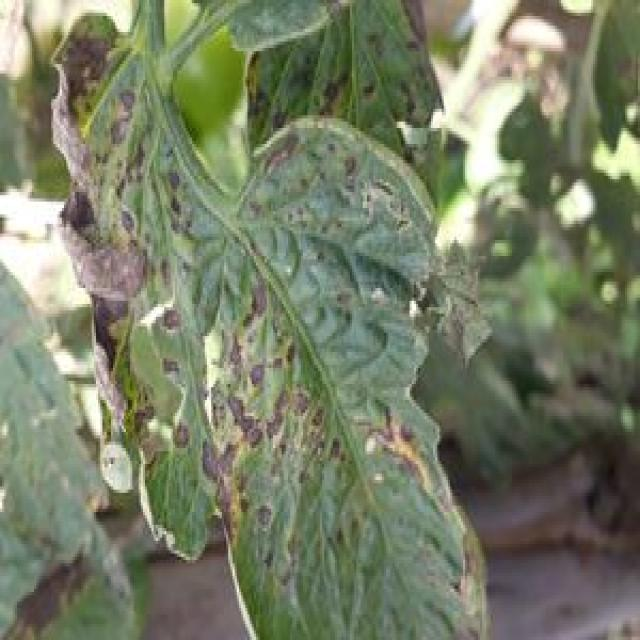Septoria leaf spot: (55, 13, 495, 640)
